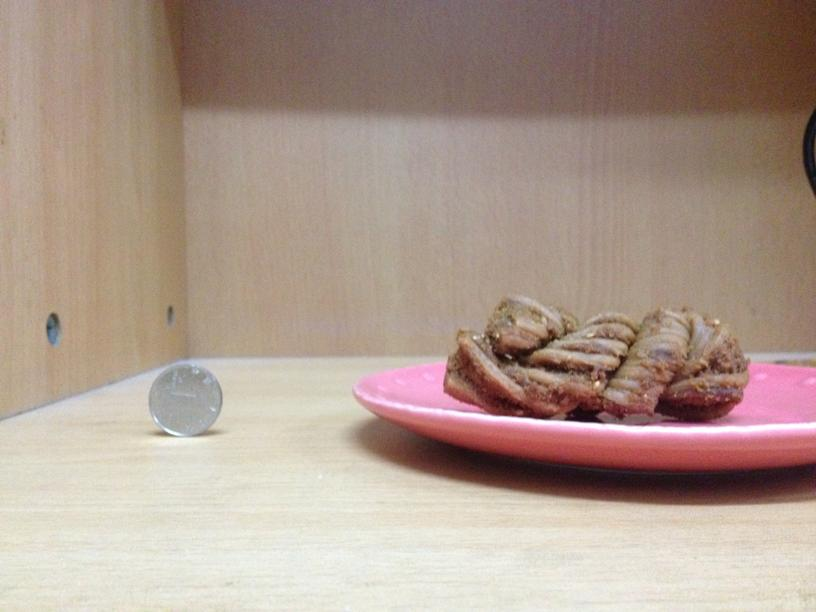coin: (143, 363, 222, 436)
fired_dough_twist: (443, 295, 749, 419)
